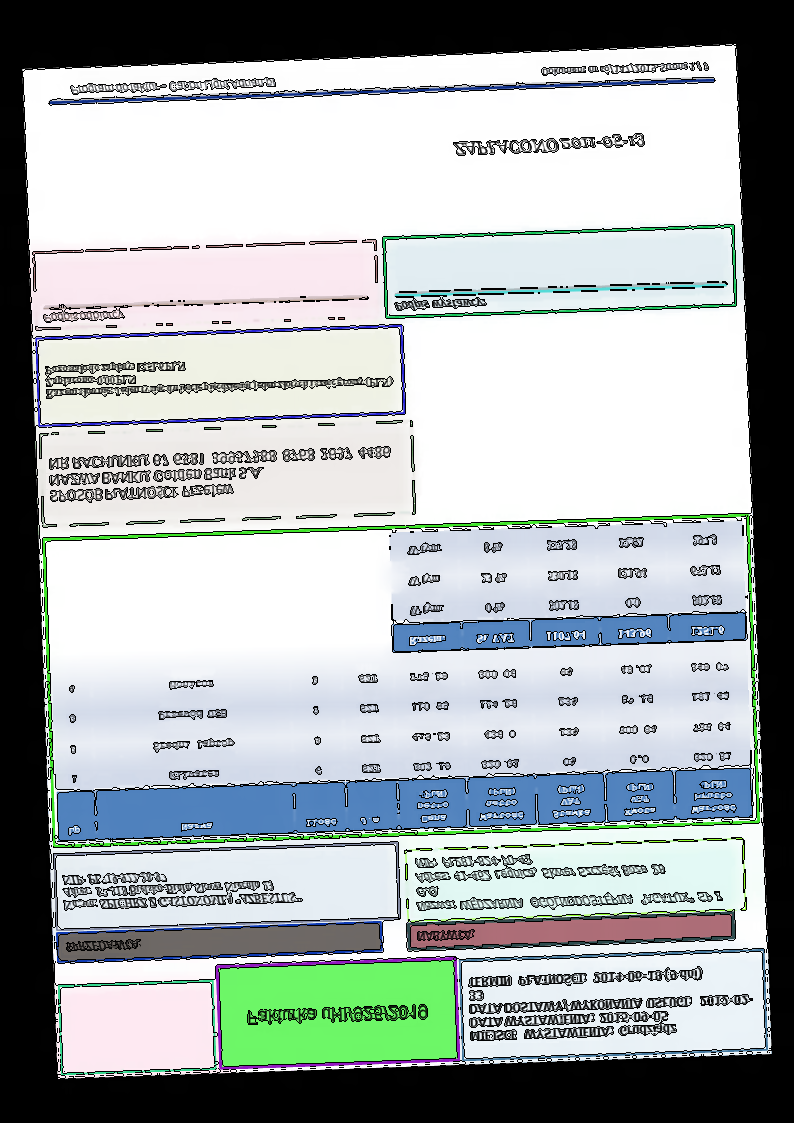Table: (50, 643, 754, 844), (388, 517, 748, 654)
TextBox: (465, 964, 758, 1045), (46, 441, 394, 506), (412, 844, 726, 915), (43, 352, 395, 402), (60, 864, 305, 914), (451, 129, 646, 160), (69, 74, 278, 100), (244, 1000, 431, 1028), (540, 58, 710, 80), (392, 293, 487, 315), (41, 307, 127, 327), (62, 936, 145, 956), (414, 926, 476, 945)
